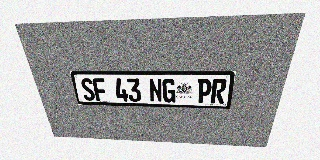3: (127, 78, 141, 102)
4: (114, 78, 129, 101)
F: (92, 78, 108, 101)
G: (162, 79, 176, 103)
N: (149, 78, 162, 102)
P: (197, 79, 212, 103)
R: (210, 79, 227, 104)
S: (80, 78, 96, 101)
